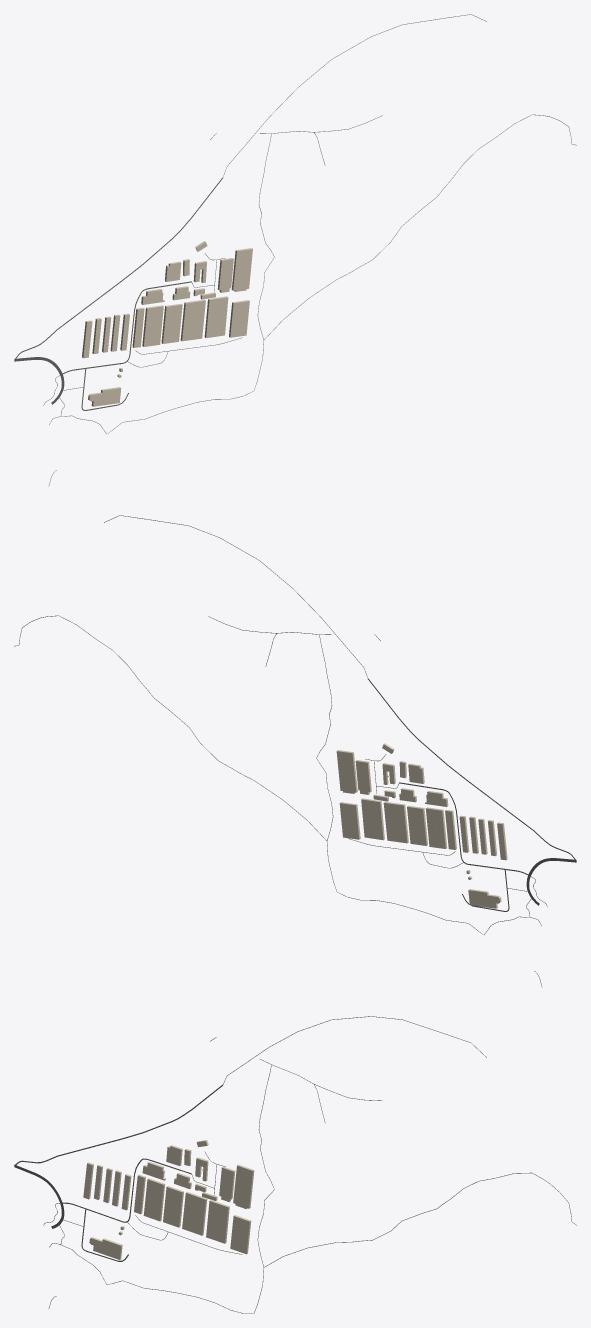
The model's file is historic-palestine-11_33_3533_3278.glb.
The picture shows the model from 3 angles, top to bottom: view 1: azimuth 30°, elevation 25°; view 2: azimuth 150°, elevation 25°; view 3: azimuth 330°, elevation 25°; orthographic projection.
Visible parts, largest first — view 1: Building_.011, Building_.022, Building_.021, Building_.009, Building_.010, Road .017, Building_.023; view 2: Building_.011, Building_.022, Building_.021, Building_.009, Building_.010, Road .017, Building_.023; view 3: Building_.011, Building_.022, Building_.021, Building_.009, Building_.010, Building_.023, Road .017, Building_.007, Building_.020, Road.
Boxes of the visible parts, <box> form: Building_.011: <box>180,299,205,341</box>; Building_.022: <box>204,296,228,338</box>; Building_.021: <box>231,248,252,291</box>; Building_.009: <box>142,305,163,346</box>; Building_.010: <box>161,304,182,343</box>; Road .017: <box>60,114,576,433</box>; Building_.023: <box>229,300,249,337</box>; Building_.011: <box>383,801,408,843</box>; Building_.022: <box>361,798,384,840</box>; Building_.021: <box>336,750,357,793</box>; Building_.009: <box>425,807,447,848</box>; Building_.010: <box>407,805,427,845</box>; Road .017: <box>14,615,530,934</box>; Building_.023: <box>339,802,360,839</box>; Building_.011: <box>182,1191,207,1235</box>; Building_.022: <box>206,1200,229,1243</box>; Building_.021: <box>233,1164,254,1209</box>; Building_.009: <box>143,1178,165,1221</box>; Building_.010: <box>163,1186,183,1227</box>; Building_.023: <box>230,1215,251,1254</box>; Road .017: <box>60,1172,576,1313</box>; Building_.007: <box>89,1237,122,1259</box>; Building_.020: <box>219,1166,235,1202</box>; Road: <box>14,1085,222,1165</box>.
Size of the model in its own units: 1735 by 1107 by 8.7.
